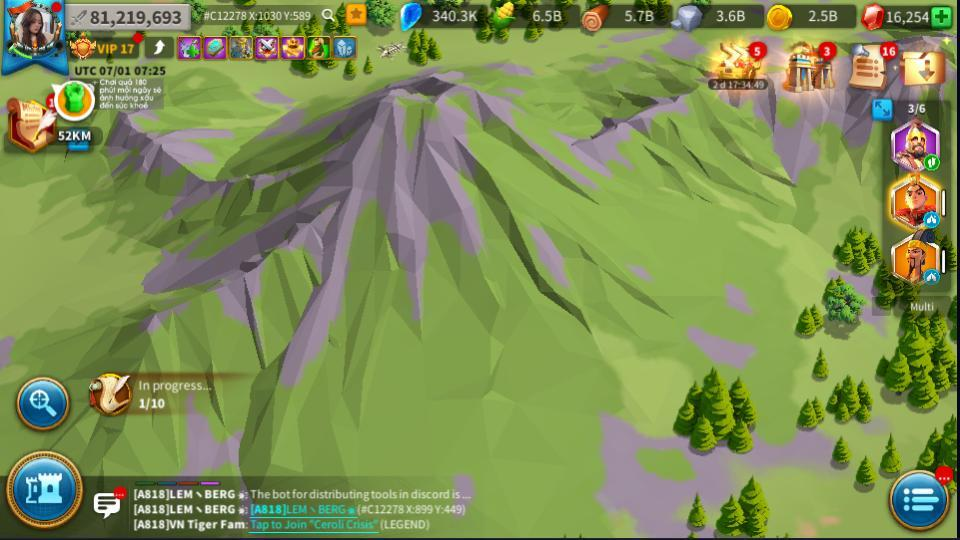march_idle: (923, 213, 938, 225), (924, 270, 939, 282)
march_marching: (923, 156, 938, 169)
